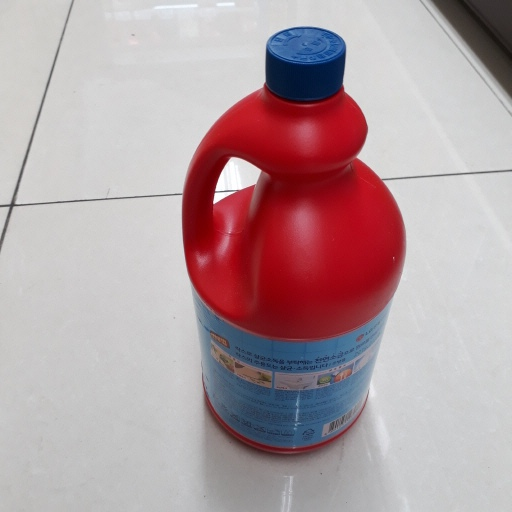Plastic_1: (176, 26, 406, 457)
